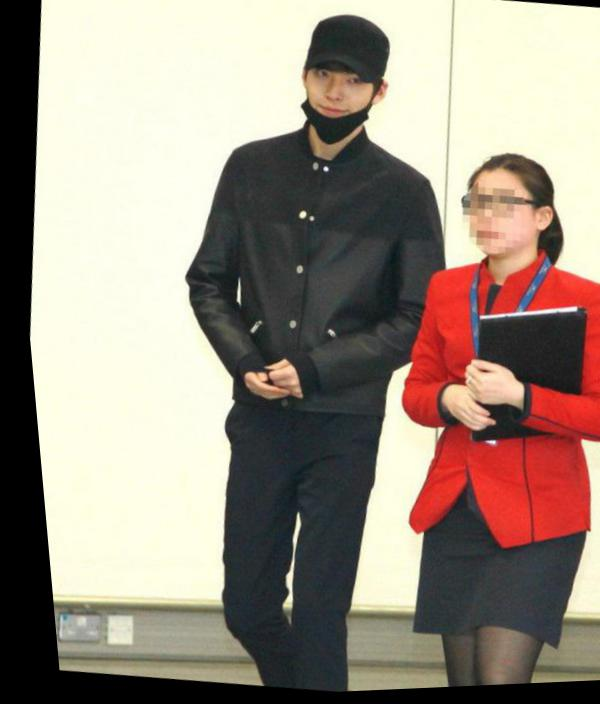NONE: (457, 179, 531, 268)
WRONG: (296, 66, 373, 150)
